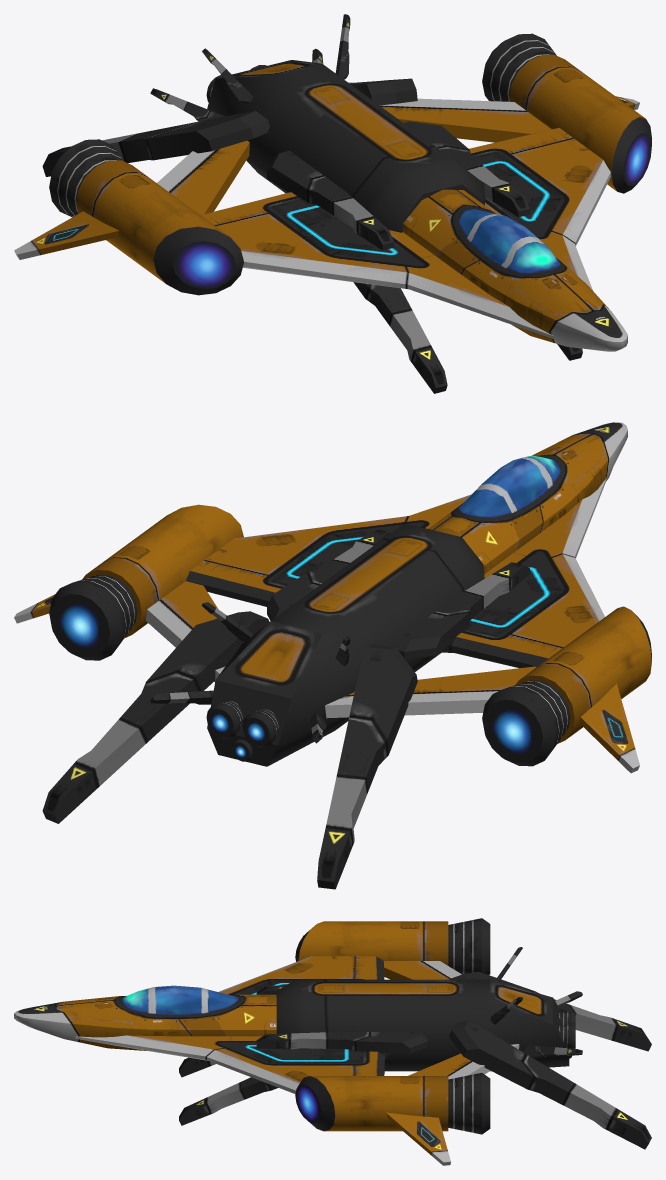
The model's file is Ship6.fbx.
The picture shows the model from 3 angles, top to bottom: view 1: azimuth 30°, elevation 25°; view 2: azimuth 150°, elevation 25°; view 3: azimuth 270°, elevation 25°; orthographic projection. The views are drawn at different scales.
Parts seen in each view (by area): view 1: StarSparrow06; view 2: StarSparrow06; view 3: StarSparrow06.
Boxes of the visible parts, bbox=[...] form: StarSparrow06: bbox=[14, 14, 651, 393]; StarSparrow06: bbox=[14, 422, 651, 889]; StarSparrow06: bbox=[14, 918, 651, 1165].
Size of the model in its own units: 1075 by 288 by 1302.
Materials: 1 (1 with a texture image).
